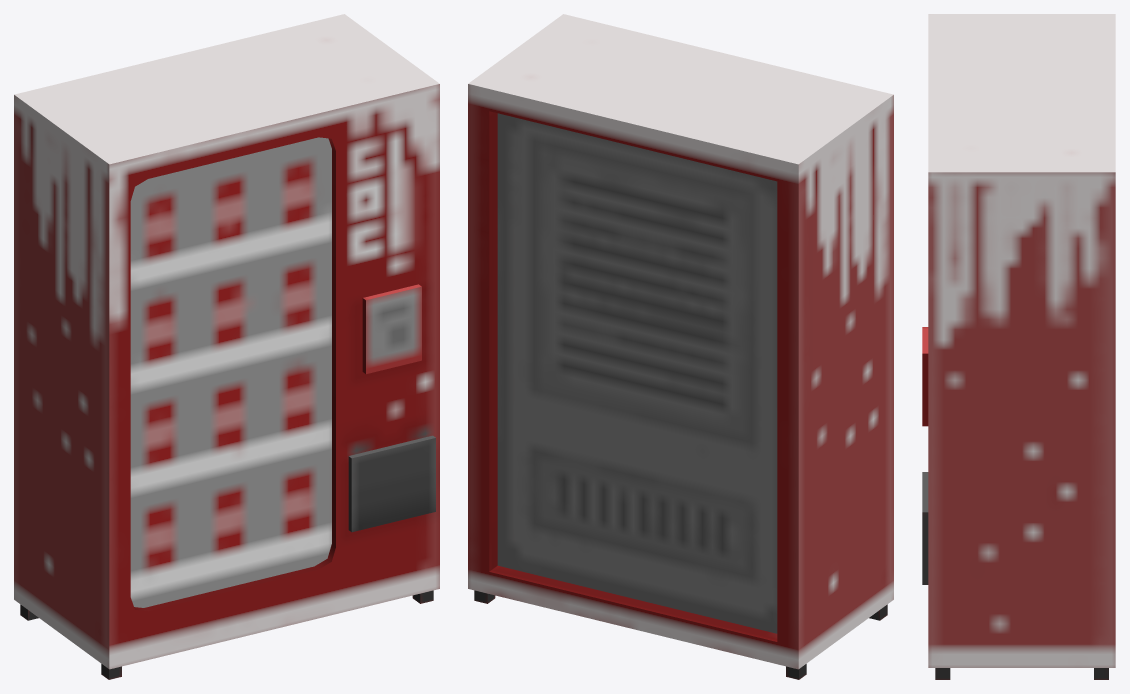
Rendered from Vending_Machine_002.FBX.
3 views of the same model, side by side, from view 1: azimuth 30°, elevation 25°; view 2: azimuth 150°, elevation 25°; view 3: azimuth 270°, elevation 25° (orthographic).
Visible parts, largest first — view 1: Vending_Machine_002; view 2: Vending_Machine_002; view 3: Vending_Machine_002.
Part boxes in pixels (x1,y1,x2,y2): Vending_Machine_002: [14, 14, 439, 679]; Vending_Machine_002: [468, 14, 893, 679]; Vending_Machine_002: [922, 14, 1115, 679].
Bounding box in the file's own units: 100 × 51.66 × 150.
